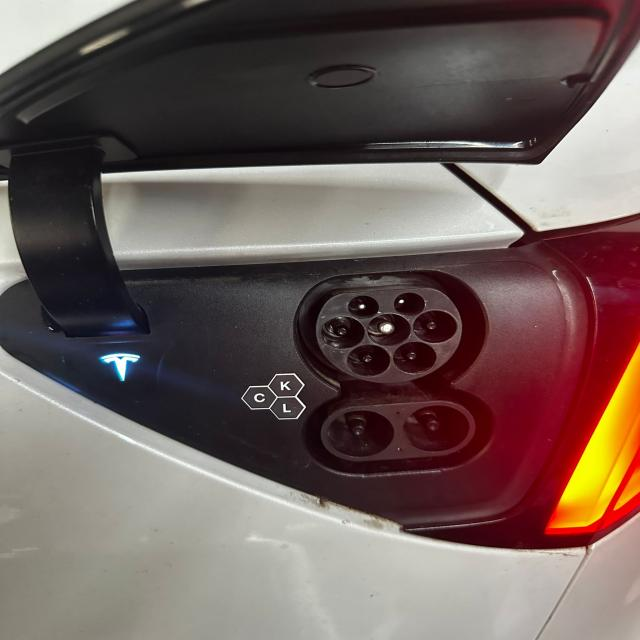inlet: (316, 288, 462, 383)
inlet-above-left: (348, 295, 379, 319)
inlet-above-right: (394, 293, 425, 316)
inlet-below-left: (347, 345, 390, 376)
inlet-below-right: (393, 342, 437, 374)
inlet-circle: (367, 313, 411, 346)
inlet-circle-left: (321, 316, 365, 349)
inlet-circle-right: (413, 310, 457, 343)
inlet-minus: (402, 405, 469, 451)
inlet-plus: (326, 410, 394, 457)
